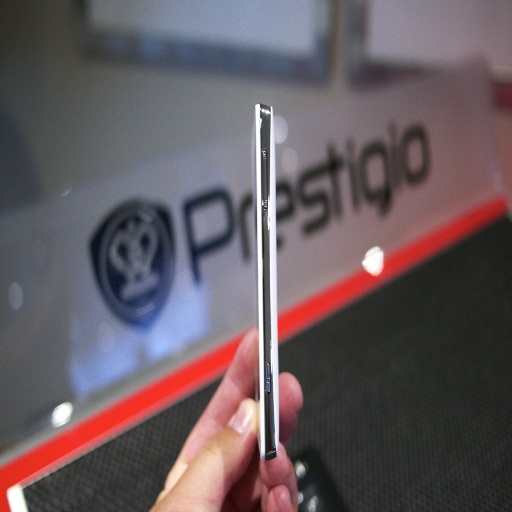hand: (156, 325, 279, 510)
